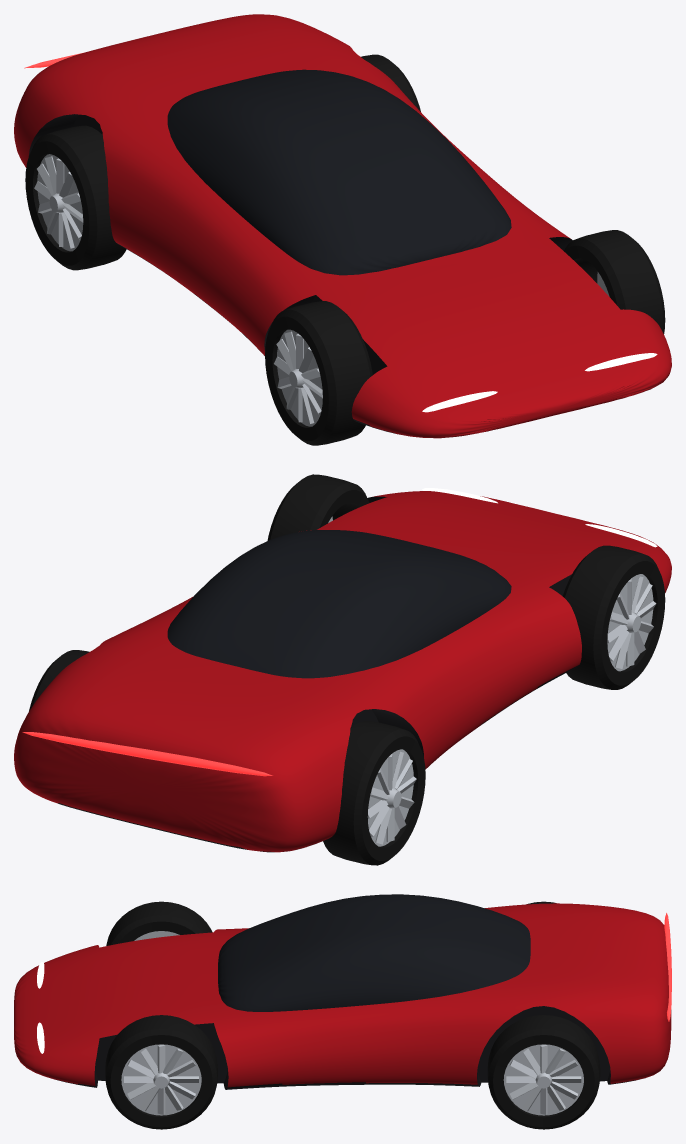
File: roadster-hi.glb
3 views of the same model, one above another, from view 1: azimuth 30°, elevation 25°; view 2: azimuth 150°, elevation 25°; view 3: azimuth 270°, elevation 25° (orthographic). The views are drawn at different scales.
Parts seen in each view (by area): view 1: roadster.001; view 2: roadster.001; view 3: roadster.001.
Boxes of the visible parts, x1,y1,x2,y2 form: roadster.001: (14, 14, 671, 445); roadster.001: (14, 474, 671, 865); roadster.001: (14, 894, 671, 1129).
Size of the model in its own units: 2.36 by 1.25 by 4.9.
